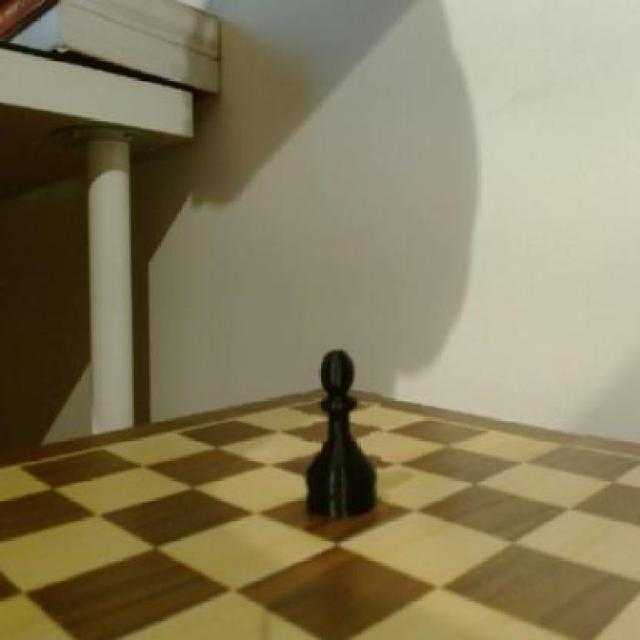black-knight: (300, 345, 381, 526)
